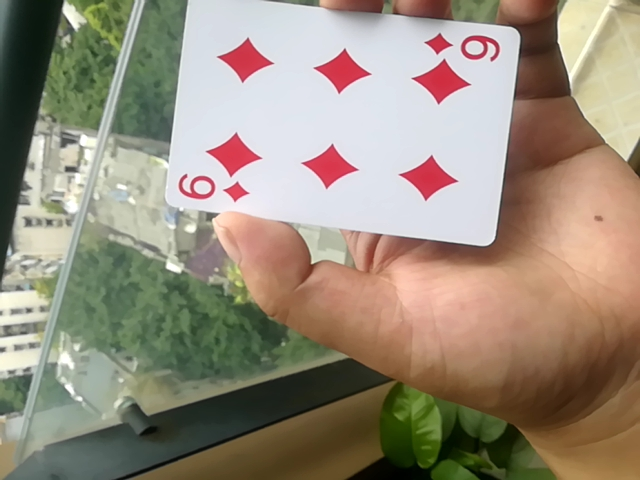fk 6: (161, 0, 524, 253)
